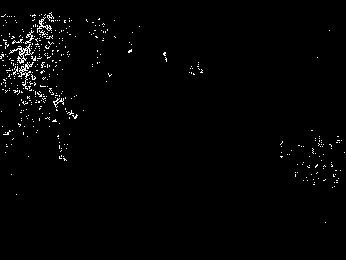person: (50, 97, 79, 161)
